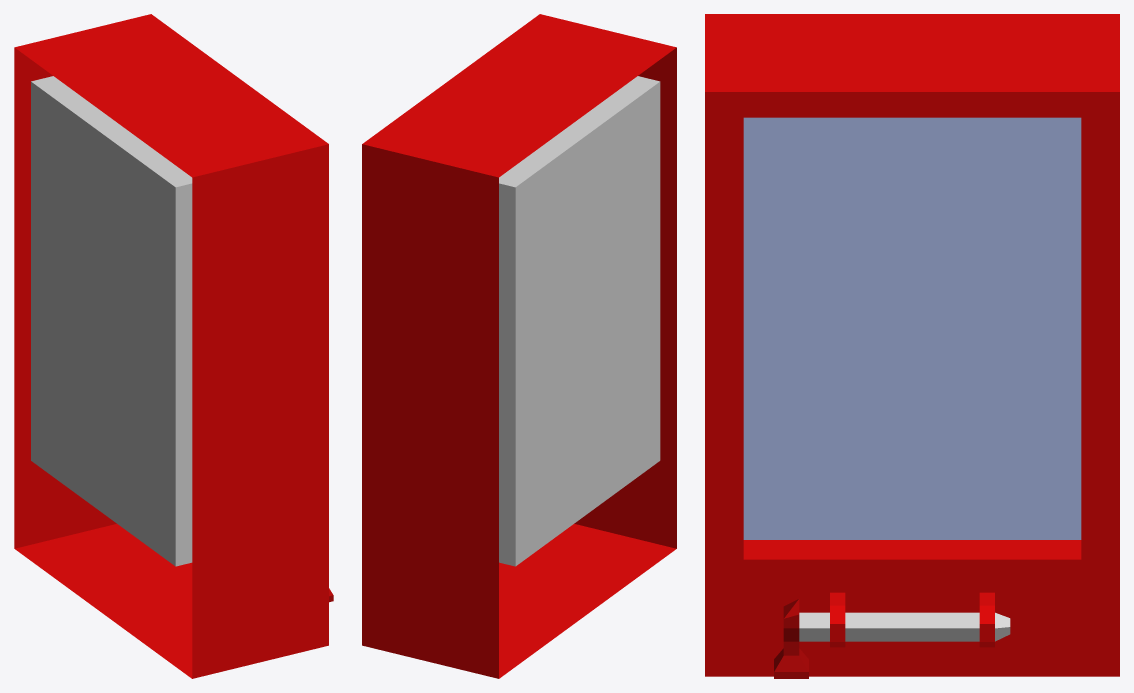
Rendered from EmergencyItem.fbx.
3 renders of one model, left to right at view 1: azimuth 30°, elevation 25°; view 2: azimuth 150°, elevation 25°; view 3: azimuth 270°, elevation 25°, orthographic. The views are drawn at different scales.
Visible parts, largest first — view 1: EmergencyItem; view 2: EmergencyItem; view 3: EmergencyItem.
Part boxes in pixels (left/top/right/bottom): EmergencyItem: left=14, top=14, right=333, bottom=678; EmergencyItem: left=362, top=14, right=676, bottom=678; EmergencyItem: left=705, top=14, right=1119, bottom=678.
Size of the model in its own units: 0.15 by 0.42 by 0.27.
